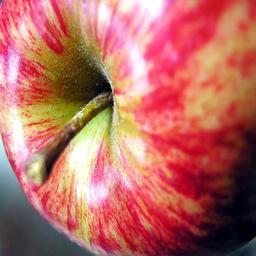apple: (1, 1, 256, 256)
